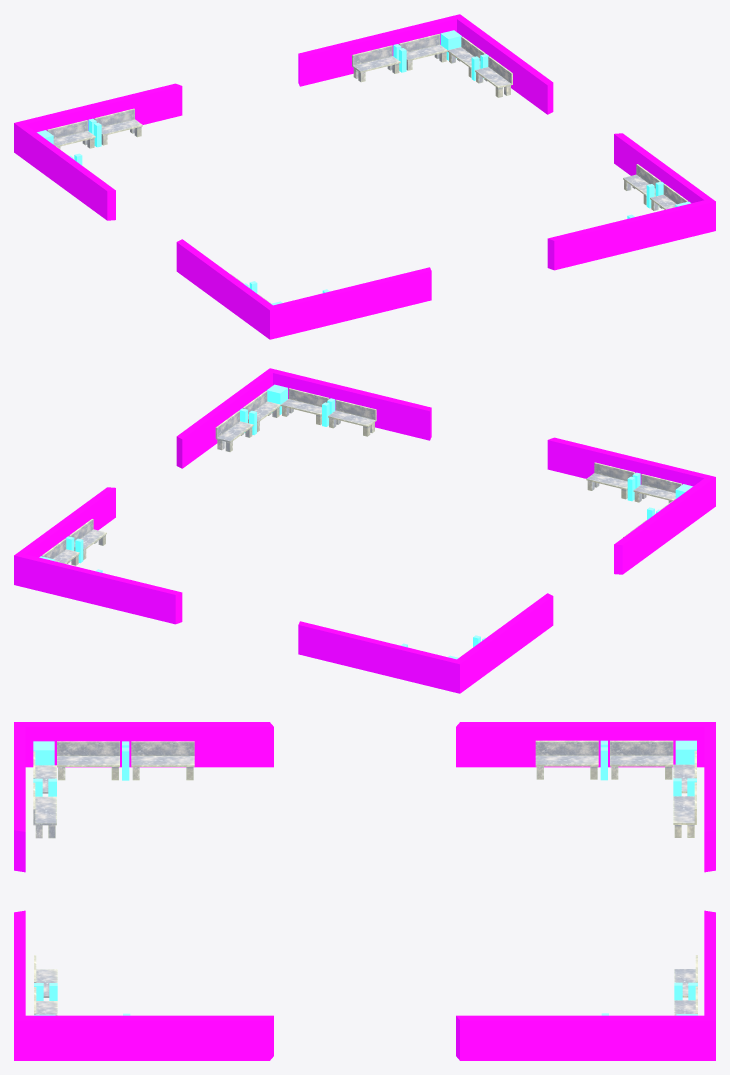
File: platformbenches.glb
The picture shows the model from 3 angles, top to bottom: view 1: azimuth 30°, elevation 25°; view 2: azimuth 150°, elevation 25°; view 3: azimuth 270°, elevation 25°; orthographic projection. The views are drawn at different scales.
Visible parts, largest first — view 1: platform wall, benchescorrect.002, benchescorrect.003, benchescorrect.001, benchdividerscorrect.002; view 2: platform wall, benchescorrect.001, benchescorrect, benchescorrect.002, benchdividerscorrect.001, benchdividerscorrect; view 3: platform wall, benchescorrect.003, benchescorrect, benchdividerscorrect.003, benchdividerscorrect, benchescorrect.002, benchescorrect.001.
Part boxes in pixels (x1=…): platform wall: x1=14, y1=14, x2=715, y2=339; benchescorrect.002: x1=352, y1=34, x2=512, y2=97; benchescorrect.003: x1=47, y1=108, x2=142, y2=181; benchescorrect.001: x1=623, y1=164, x2=687, y2=210; benchdividerscorrect.002: x1=393, y1=30, x2=488, y2=80; platform wall: x1=14, y1=368, x2=715, y2=693; benchescorrect.001: x1=215, y1=388, x2=376, y2=451; benchescorrect: x1=586, y1=462, x2=681, y2=537; benchescorrect.002: x1=42, y1=519, x2=106, y2=565; benchdividerscorrect.001: x1=239, y1=384, x2=335, y2=435; benchdividerscorrect: x1=627, y1=472, x2=692, y2=519; platform wall: x1=14, y1=722, x2=715, y2=1060; benchescorrect.003: x1=535, y1=740, x2=696, y2=837; benchescorrect: x1=33, y1=741, x2=194, y2=838; benchdividerscorrect.003: x1=600, y1=740, x2=696, y2=796; benchdividerscorrect: x1=33, y1=741, x2=129, y2=796; benchescorrect.002: x1=674, y1=955, x2=697, y2=1015; benchescorrect.001: x1=34, y1=955, x2=57, y2=1015.
Size of what is drawn, in the model's own units: 24.4 by 1.55 by 24.26.
Materials: 3 (1 with a texture image).
